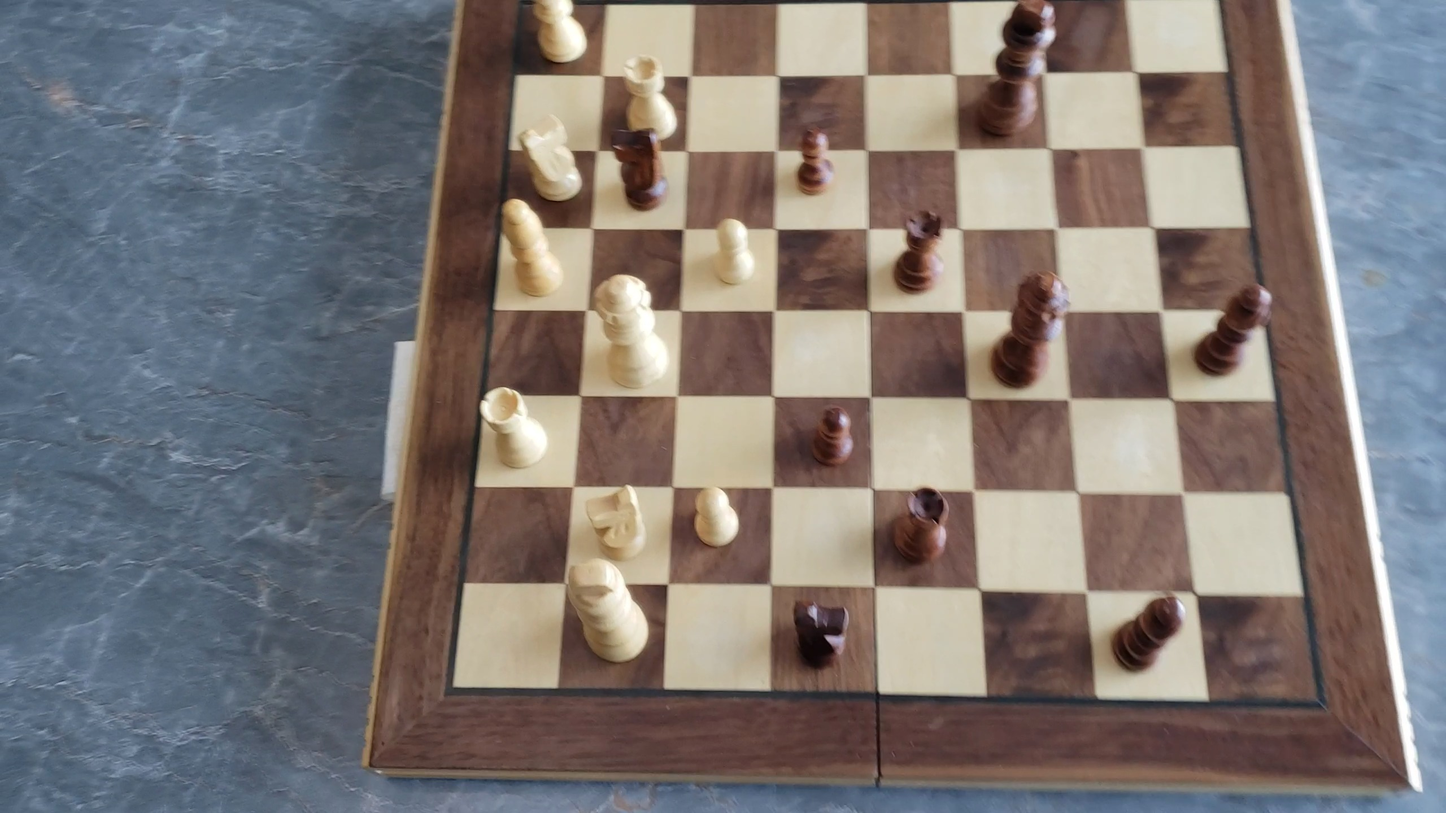black-bishop: (1099, 582, 1196, 690), (1187, 276, 1277, 380)
black-king: (972, 0, 1060, 139)
black-knight: (610, 124, 669, 212), (788, 597, 852, 671)
black-pawn: (792, 123, 835, 198), (809, 401, 856, 469)
black-queen: (990, 267, 1075, 400)
black-rook: (887, 484, 952, 569), (891, 206, 948, 294)
white-bishop: (495, 195, 567, 300)
white-king: (560, 556, 655, 667)
white-knight: (514, 109, 586, 204), (582, 480, 651, 562)
white-pawn: (708, 213, 761, 290), (688, 482, 743, 552)
white-queen: (589, 272, 675, 393)
white-rook: (477, 384, 552, 471), (619, 51, 681, 145)
